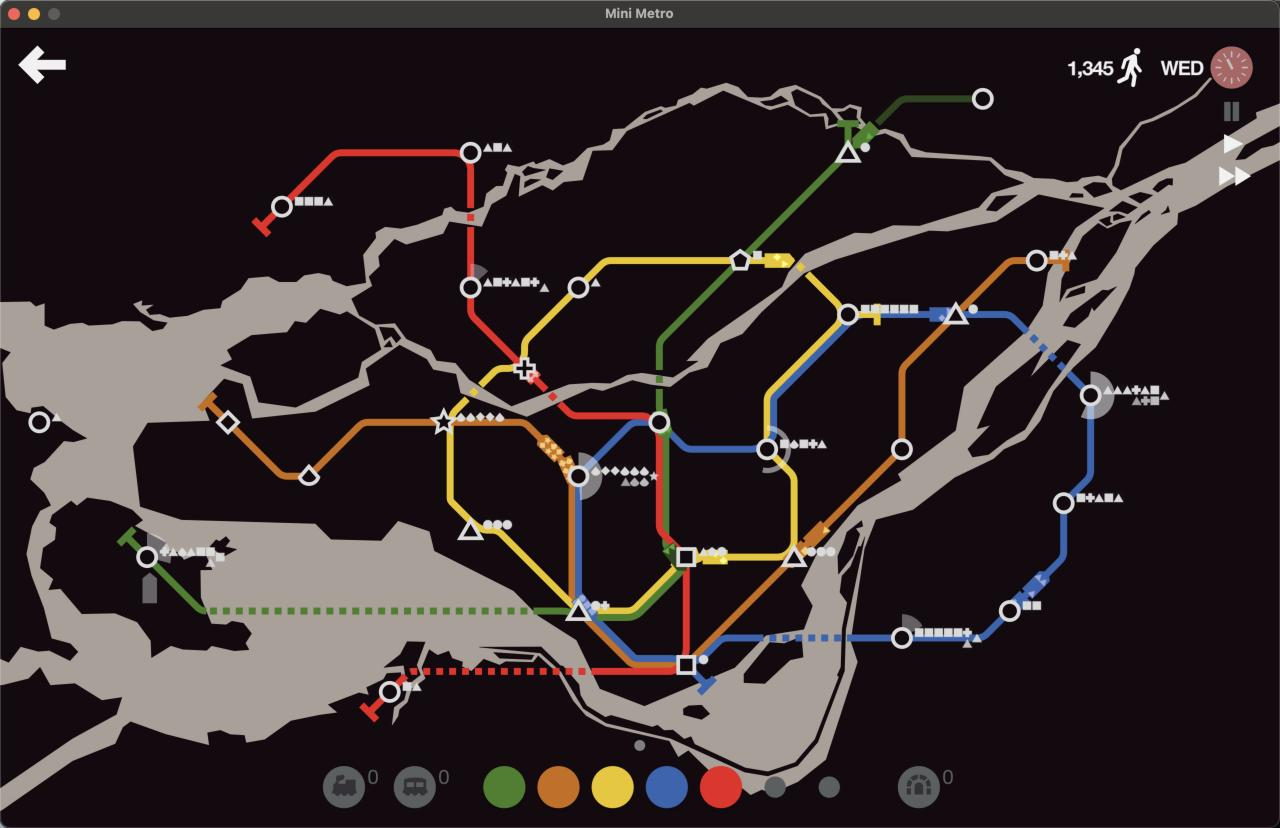CIRCLE: (458, 275, 483, 300), (29, 410, 53, 434), (135, 545, 159, 569), (378, 679, 402, 703), (270, 194, 294, 218), (1079, 383, 1103, 407), (998, 599, 1022, 623), (1052, 491, 1076, 515), (567, 464, 591, 488), (648, 410, 671, 435), (756, 437, 779, 461), (890, 437, 913, 461), (567, 276, 590, 299), (459, 141, 482, 164), (891, 626, 914, 649), (1025, 249, 1048, 272), (972, 87, 994, 111), (837, 303, 859, 326)
CROSS: (513, 356, 538, 383)
GEM: (215, 409, 241, 435)
PENTAGON: (729, 249, 752, 271)
SQUARE: (676, 654, 697, 675), (676, 547, 697, 567)
STAR: (430, 407, 458, 435)
TRIANGLE: (565, 595, 595, 621), (941, 300, 970, 326), (834, 140, 861, 165), (781, 543, 807, 568), (457, 518, 483, 541), (1224, 133, 1244, 155)
WEDGE: (297, 464, 320, 487)
